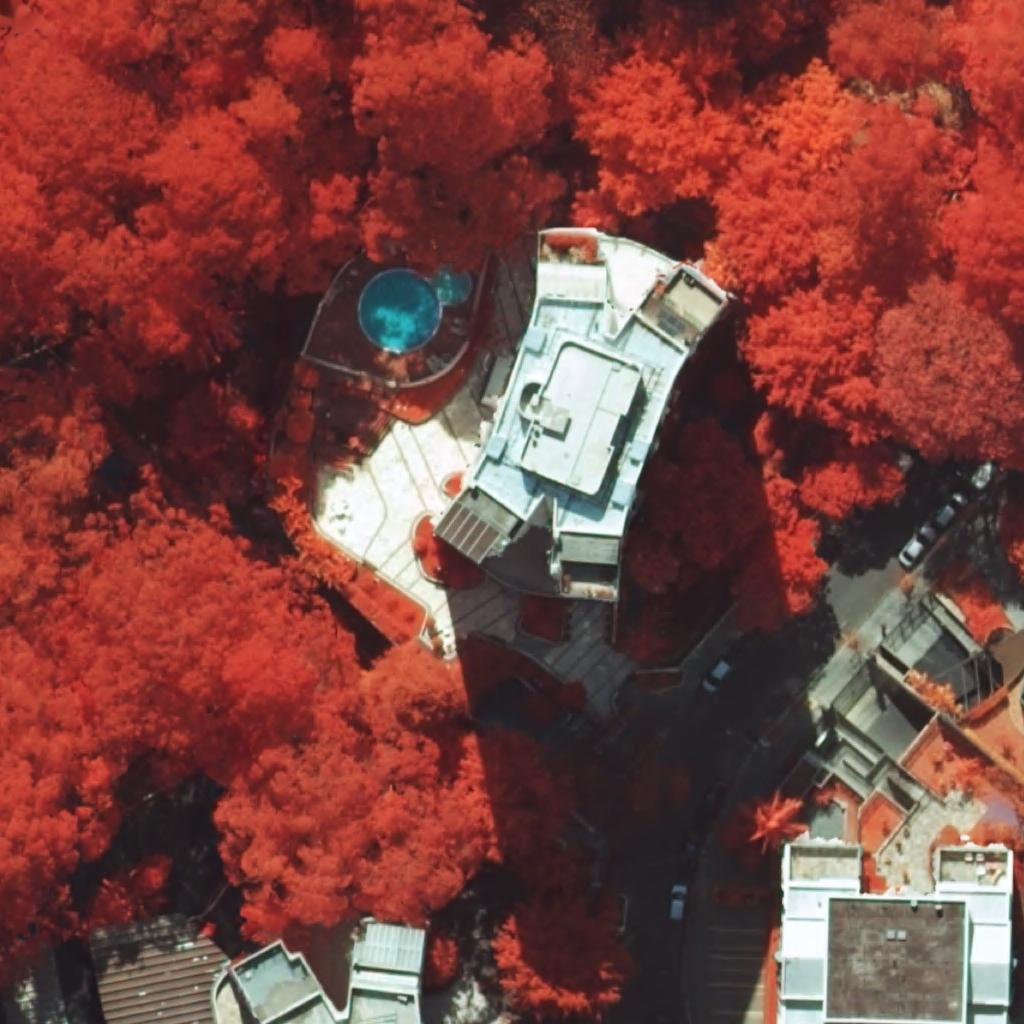pool: (360, 270, 469, 350)
